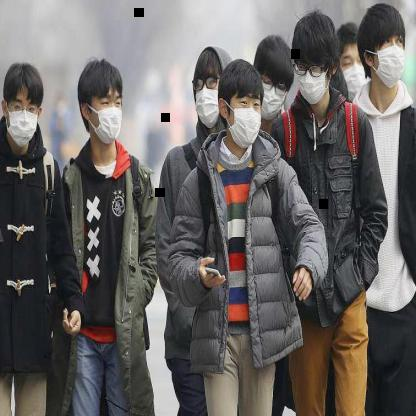mask: (353, 2, 407, 95), (288, 14, 341, 108), (74, 60, 127, 150), (216, 58, 265, 150), (250, 30, 294, 124), (1, 59, 48, 147), (186, 44, 230, 133), (335, 22, 372, 103)
